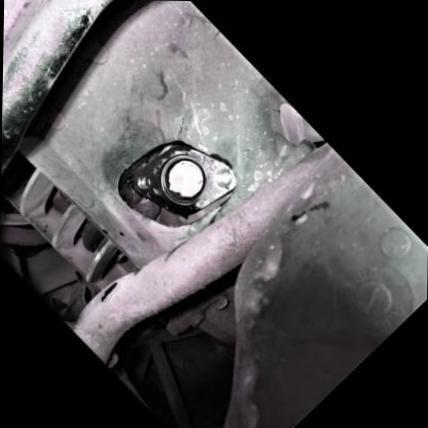hole: (208, 164, 239, 194), (132, 170, 154, 194)
